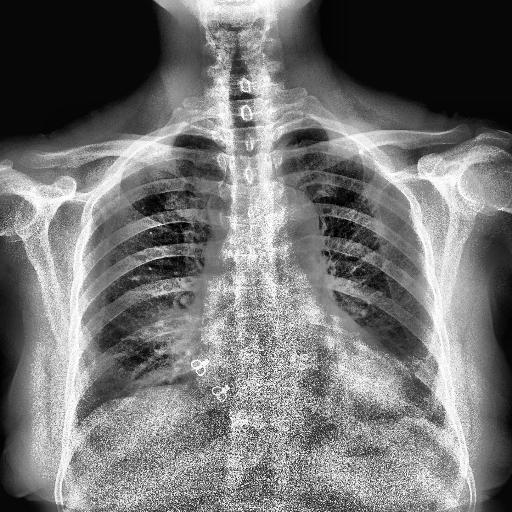0- Aortic enlargement: (254, 180, 320, 264), (256, 184, 320, 252), (264, 184, 319, 244)
3- Cardiomegaly: (194, 342, 422, 430), (190, 334, 418, 416), (194, 330, 416, 410)
